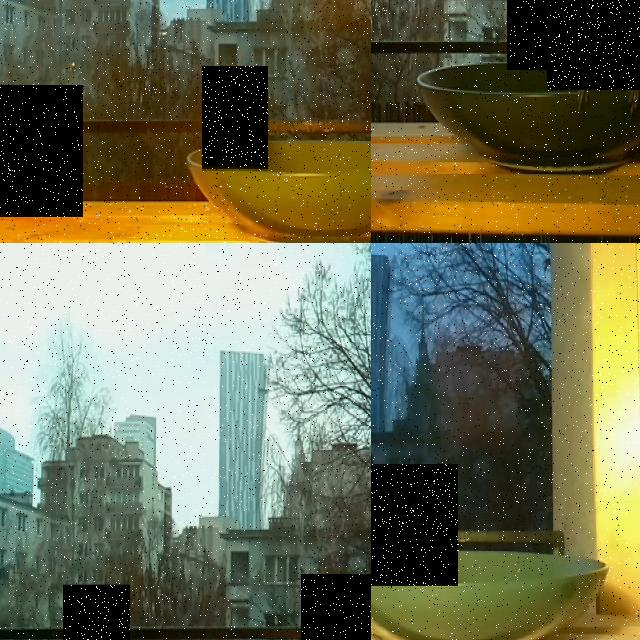Bogatka: (0, 85, 83, 217), (371, 464, 458, 585), (547, 0, 640, 90), (63, 584, 130, 640), (507, 0, 556, 69)
Wrobel: (202, 66, 268, 170), (301, 573, 371, 640)
